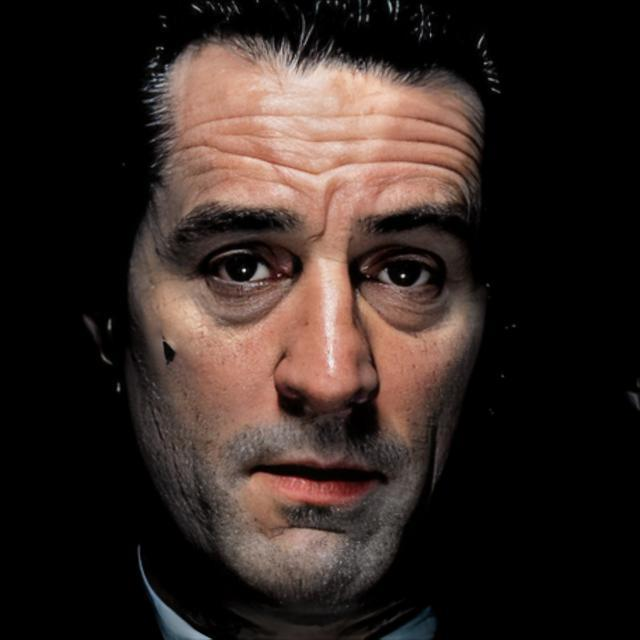surprise: (120, 30, 488, 618)
